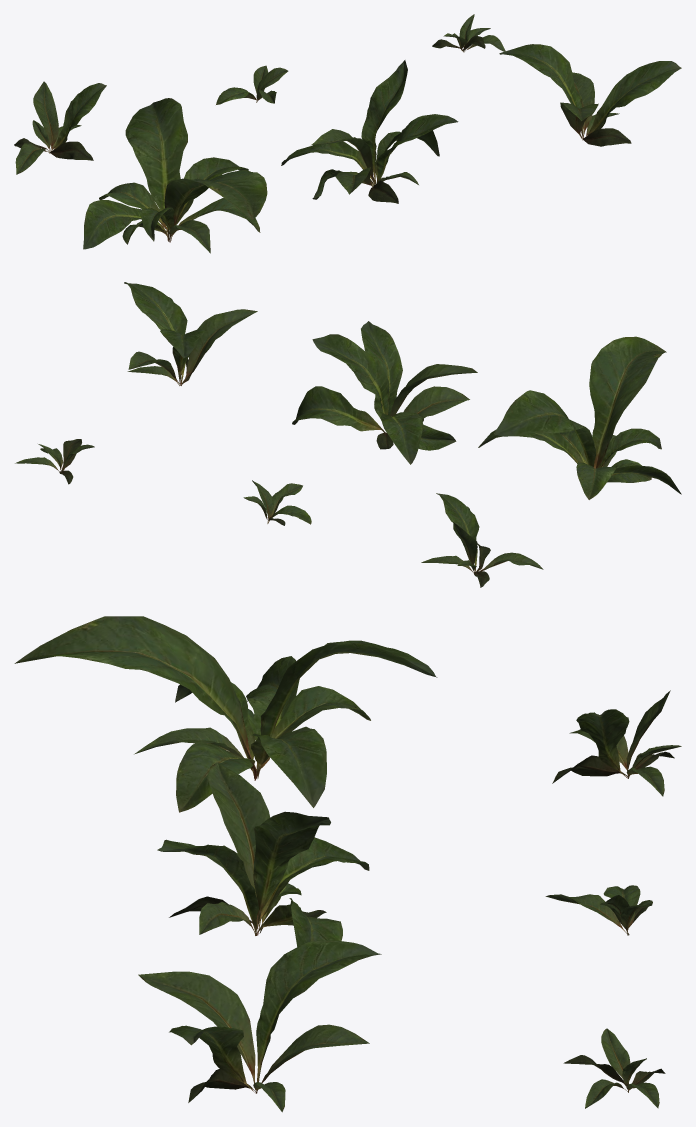
File: anthurium.glb
3 renders of one model, top to bottom at view 1: azimuth 30°, elevation 25°; view 2: azimuth 150°, elevation 25°; view 3: azimuth 270°, elevation 25°, orthographic. The views are drawn at different scales.
Parts seen in each view (by area): view 1: anthurium_botany_01_a, anthurium_botany_01_b, anthurium_botany_01_c, anthurium_botany_04_d, anthurium_botany_05_e, anthurium_botany_06_f; view 2: anthurium_botany_01_a, anthurium_botany_01_b, anthurium_botany_01_c, anthurium_botany_04_d, anthurium_botany_05_e, anthurium_botany_06_f; view 3: anthurium_botany_01_a, anthurium_botany_01_b, anthurium_botany_01_c, anthurium_botany_04_d, anthurium_botany_06_f, anthurium_botany_05_e.
Boxes of the visible parts, x1,y1,x2,y2 form: anthurium_botany_01_a: [83, 98, 267, 253]; anthurium_botany_01_b: [281, 60, 458, 203]; anthurium_botany_01_c: [499, 44, 681, 146]; anthurium_botany_04_d: [14, 81, 106, 174]; anthurium_botany_05_e: [216, 65, 288, 104]; anthurium_botany_06_f: [432, 14, 505, 52]; anthurium_botany_01_a: [478, 336, 681, 499]; anthurium_botany_01_b: [292, 321, 477, 464]; anthurium_botany_01_c: [124, 282, 257, 385]; anthurium_botany_04_d: [421, 493, 543, 587]; anthurium_botany_05_e: [243, 480, 311, 525]; anthurium_botany_06_f: [15, 439, 94, 484]; anthurium_botany_01_a: [14, 616, 437, 812]; anthurium_botany_01_b: [157, 762, 369, 946]; anthurium_botany_01_c: [138, 940, 381, 1112]; anthurium_botany_04_d: [552, 690, 681, 796]; anthurium_botany_06_f: [563, 1028, 665, 1108]; anthurium_botany_05_e: [545, 885, 652, 935].
Bounding box in the file's own units: 2.8 × 0.4997 × 1.8.
Materials: 1 (1 with a texture image).
